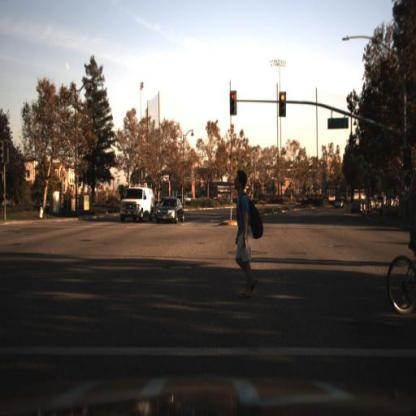car: (119, 182, 157, 233), (156, 193, 187, 228), (350, 198, 369, 219), (334, 196, 346, 217), (351, 197, 364, 216)
pedestrian: (225, 165, 272, 318), (229, 167, 265, 307)
trafficLight-Red: (278, 87, 289, 123), (402, 144, 414, 174)
trafficLight-RedLeft: (228, 83, 239, 121)
